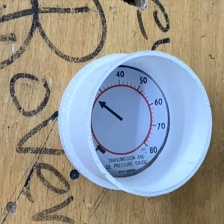gauge: (92, 66, 170, 177)
